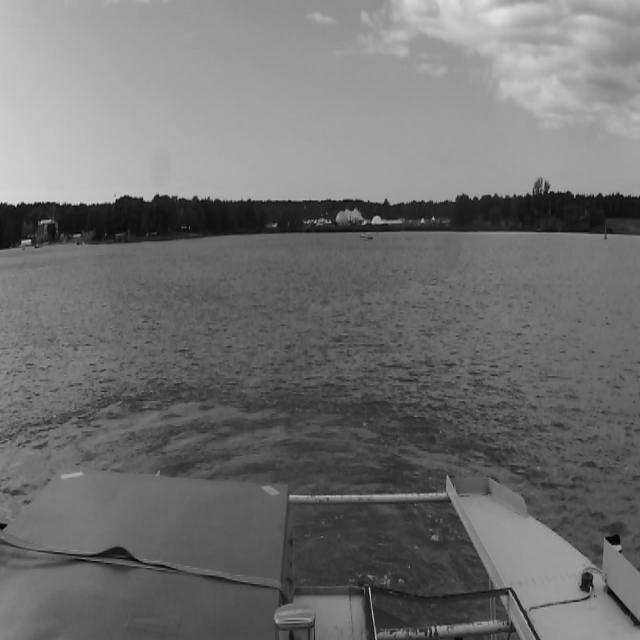buoy: (602, 222, 608, 244), (375, 226, 379, 236)
ship: (356, 230, 374, 242)
